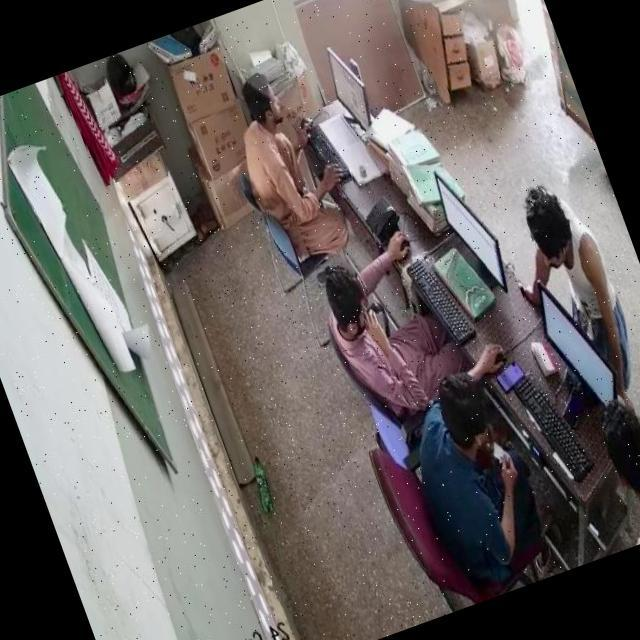person: (386, 366, 554, 584), (314, 236, 466, 414), (510, 168, 636, 376), (222, 62, 342, 248), (577, 381, 640, 548)
